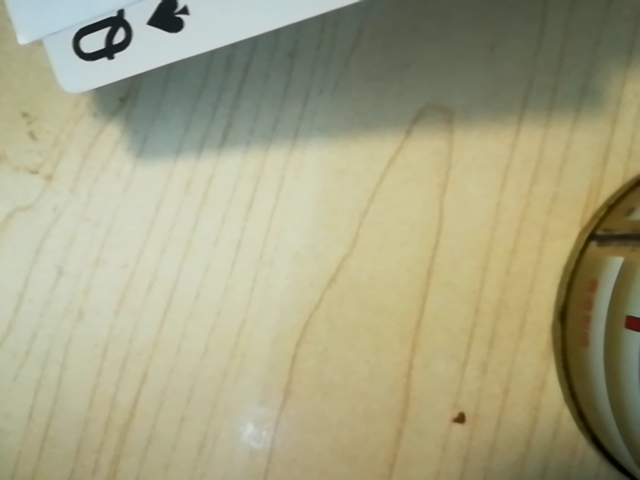ht q: (56, 0, 205, 78)
